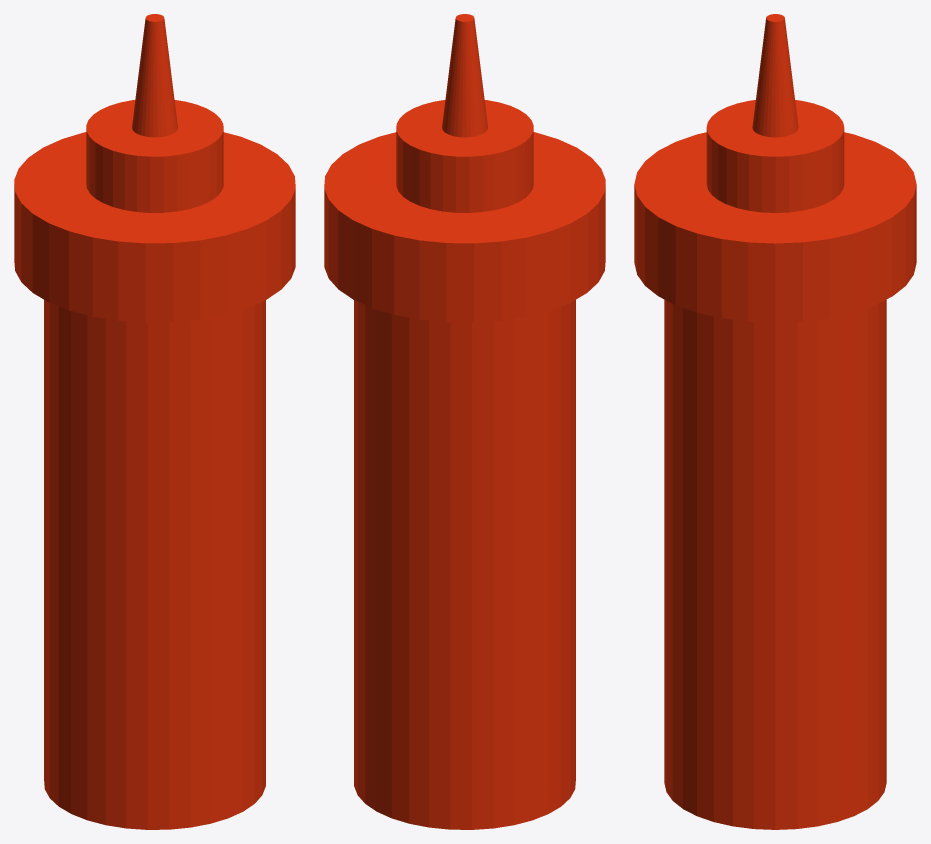
The model's file is Saus.fbx.
The picture shows the model from 3 angles, left to right: view 1: azimuth 30°, elevation 25°; view 2: azimuth 150°, elevation 25°; view 3: azimuth 270°, elevation 25°; orthographic projection.
Parts seen in each view (by area): view 1: Saus; view 2: Saus; view 3: Saus.
Boxes of the visible parts, bbox=[...] form: Saus: bbox=[14, 14, 295, 829]; Saus: bbox=[324, 14, 605, 829]; Saus: bbox=[634, 14, 916, 829].
Bounding box in the file's own units: 108 × 325 × 108.
